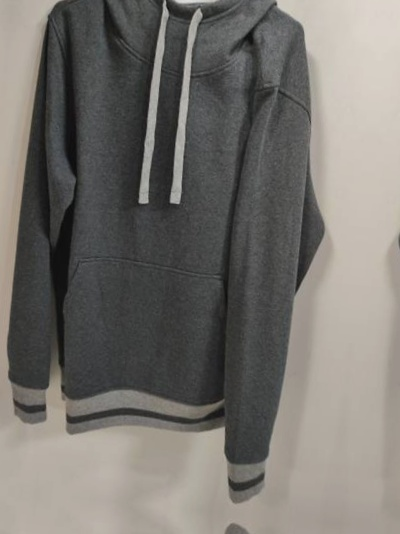Hoodie: (0, 0, 350, 500), (373, 0, 400, 534), (0, 509, 294, 534)
